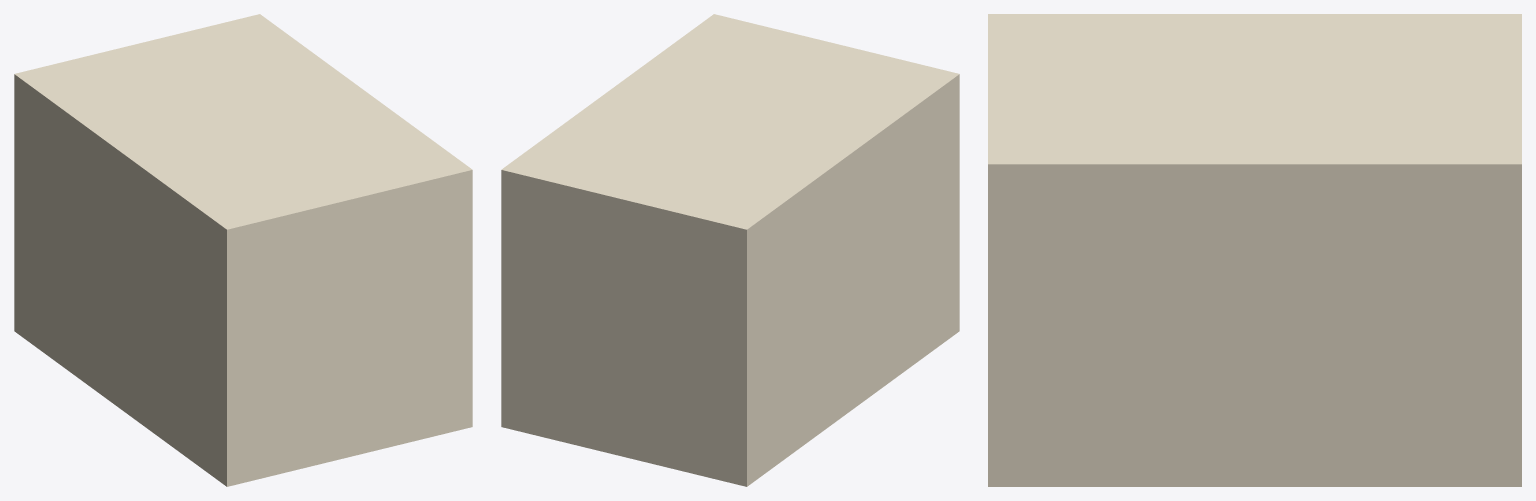
The model's file is snowy_owl__leg_l.glb.
3 renders of one model, left to right at view 1: azimuth 30°, elevation 25°; view 2: azimuth 150°, elevation 25°; view 3: azimuth 270°, elevation 25°, orthographic. The views are drawn at different scales.
Parts seen in each view (by area): view 1: snowy_owl__leg_l; view 2: snowy_owl__leg_l; view 3: snowy_owl__leg_l.
Boxes of the visible parts, x1,y1,x2,y2 form: snowy_owl__leg_l: (14,14,472,486); snowy_owl__leg_l: (501,14,959,486); snowy_owl__leg_l: (988,14,1521,486).
Size of the model in its own units: 0.2 by 0.2 by 0.3.
1 material, 1 textured.
